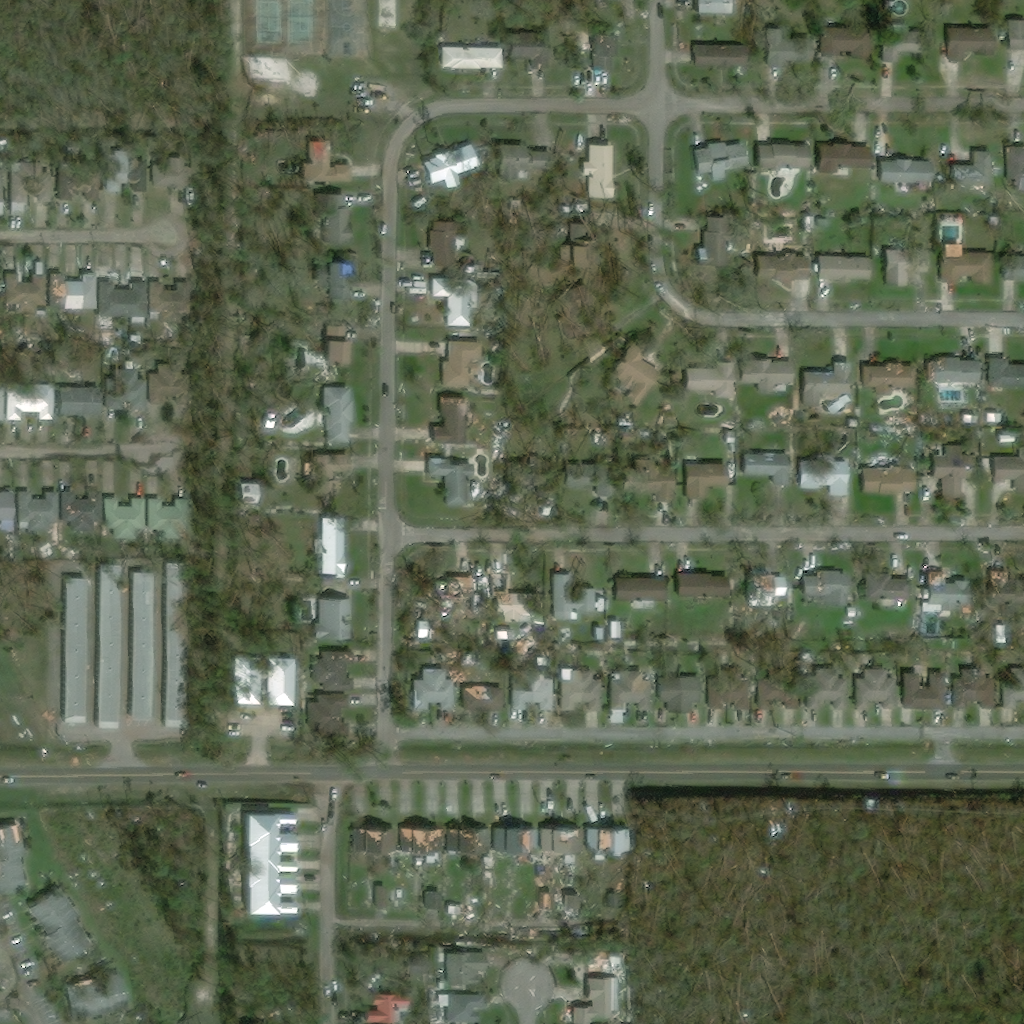major_damage: (917, 570, 968, 618), (488, 575, 538, 622), (431, 397, 467, 443), (434, 574, 466, 608), (398, 827, 441, 852), (745, 568, 782, 596), (585, 828, 614, 862), (352, 828, 390, 853), (461, 685, 500, 709), (541, 828, 581, 851), (447, 828, 486, 851), (541, 891, 552, 909)
minor_damage: (62, 973, 125, 1014), (291, 141, 350, 182), (428, 455, 473, 505), (0, 824, 27, 894), (801, 567, 848, 607), (740, 446, 787, 486), (46, 273, 96, 308), (312, 651, 353, 693), (863, 361, 915, 394), (805, 363, 850, 401), (105, 368, 144, 410), (953, 670, 992, 711), (950, 149, 992, 187), (62, 493, 98, 528), (924, 358, 978, 381), (692, 45, 744, 67), (493, 828, 534, 849), (591, 32, 612, 71), (425, 891, 442, 909)
no_damage: (240, 811, 295, 914), (27, 887, 85, 968), (129, 572, 154, 722), (61, 578, 86, 724), (98, 563, 119, 729), (851, 24, 927, 63), (165, 574, 183, 728), (929, 445, 979, 500), (555, 283, 605, 337), (564, 978, 622, 1023), (796, 454, 855, 497), (97, 266, 146, 317), (429, 278, 480, 326), (9, 160, 50, 218), (745, 253, 812, 288), (5, 260, 47, 313), (939, 244, 990, 285), (548, 577, 594, 622), (624, 457, 671, 501), (316, 387, 351, 446), (558, 670, 602, 716), (859, 458, 915, 494), (739, 357, 792, 394), (814, 141, 869, 176), (685, 359, 732, 399), (510, 670, 552, 714), (412, 668, 453, 713), (4, 382, 52, 420), (804, 668, 847, 710), (692, 142, 745, 176), (443, 341, 480, 389), (103, 152, 145, 194), (984, 447, 1023, 492), (16, 490, 57, 532), (708, 668, 747, 712), (609, 671, 650, 712), (883, 248, 925, 288), (658, 675, 699, 715), (857, 669, 894, 712), (944, 28, 992, 61), (443, 952, 488, 987), (314, 600, 354, 639), (57, 162, 97, 201), (618, 339, 655, 381), (903, 672, 944, 708), (104, 499, 145, 535), (863, 571, 910, 602), (755, 141, 805, 170), (508, 32, 547, 69), (152, 157, 192, 193), (359, 993, 407, 1023), (547, 57, 589, 91), (759, 674, 795, 712), (315, 260, 349, 300), (320, 192, 346, 243), (318, 325, 351, 365), (439, 47, 499, 69), (231, 659, 259, 706), (565, 463, 606, 495), (816, 256, 870, 280), (877, 159, 929, 183), (322, 518, 344, 574), (57, 387, 99, 416), (579, 143, 617, 175), (268, 658, 294, 704), (675, 572, 718, 599), (986, 357, 1023, 388), (613, 578, 662, 601), (445, 994, 482, 1023), (149, 498, 183, 529), (149, 281, 180, 311), (156, 365, 182, 400), (1004, 666, 1023, 711), (684, 455, 725, 475), (1001, 249, 1023, 282), (429, 222, 444, 265), (1005, 20, 1023, 50), (514, 144, 537, 166), (692, 0, 729, 13), (1006, 145, 1023, 171), (562, 893, 582, 913), (0, 493, 13, 518), (673, 46, 691, 64), (412, 956, 428, 972), (376, 886, 388, 907), (996, 433, 1010, 442), (985, 413, 996, 422)
unclassified: (490, 854, 542, 921)
